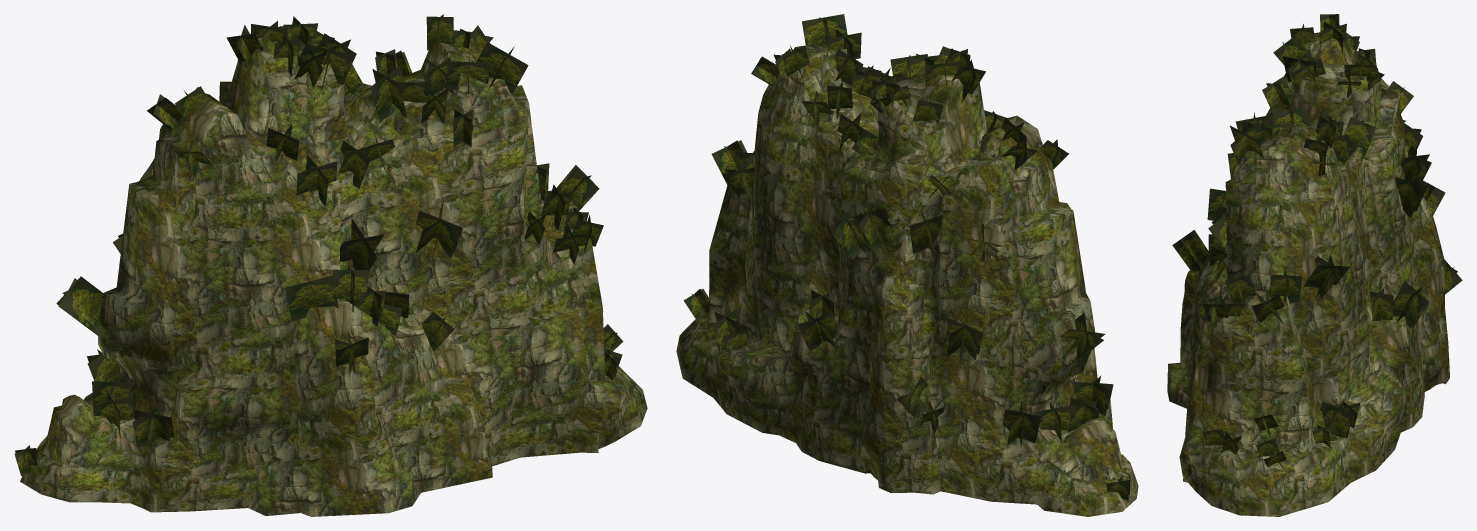
Rendered from shanti_22.fbx.
The picture shows the model from 3 angles, left to right: view 1: azimuth 30°, elevation 25°; view 2: azimuth 150°, elevation 25°; view 3: azimuth 270°, elevation 25°; orthographic projection. The views are drawn at different scales.
Parts seen in each view (by area): view 1: shanti_22; view 2: shanti_22; view 3: shanti_22.
Boxes of the visible parts, bbox=[...] form: shanti_22: bbox=[14, 14, 647, 516]; shanti_22: bbox=[676, 14, 1138, 516]; shanti_22: bbox=[1167, 14, 1462, 516].
Size of what is drawn, in the model's own units: 9916 by 7256 by 5402.
